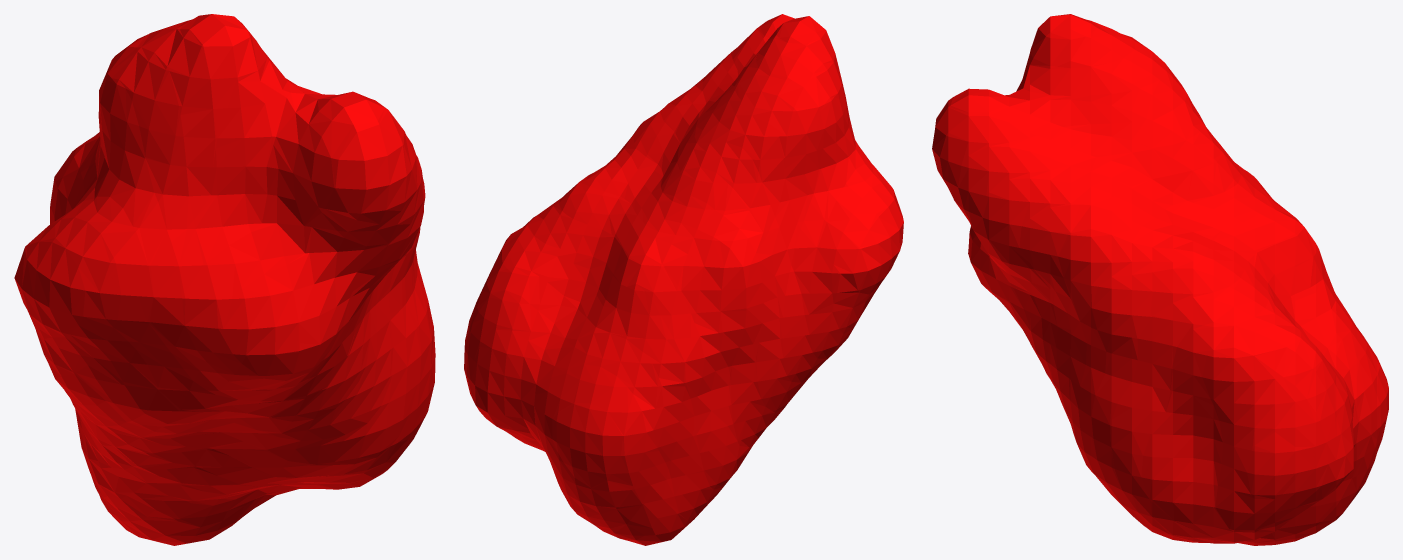
File: yeeX_coarse.dae
The picture shows the model from 3 angles, left to right: view 1: azimuth 30°, elevation 25°; view 2: azimuth 150°, elevation 25°; view 3: azimuth 270°, elevation 25°; orthographic projection. The views are drawn at different scales.
Parts seen in each view (by area): view 1: yeeX; view 2: yeeX; view 3: yeeX.
Boxes of the visible parts, left/top/right/bottom form: yeeX: left=14, top=14, right=435, bottom=545; yeeX: left=464, top=14, right=903, bottom=545; yeeX: left=932, top=14, right=1388, bottom=545.
Size of the model in its own units: 38.46 by 49.24 by 41.2.
